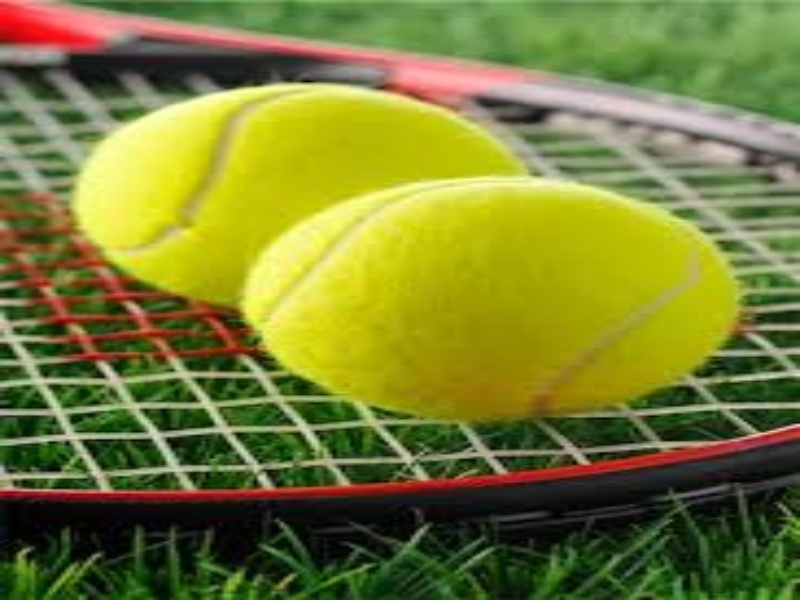tennis ball: (240, 174, 757, 424), (62, 80, 553, 285)
